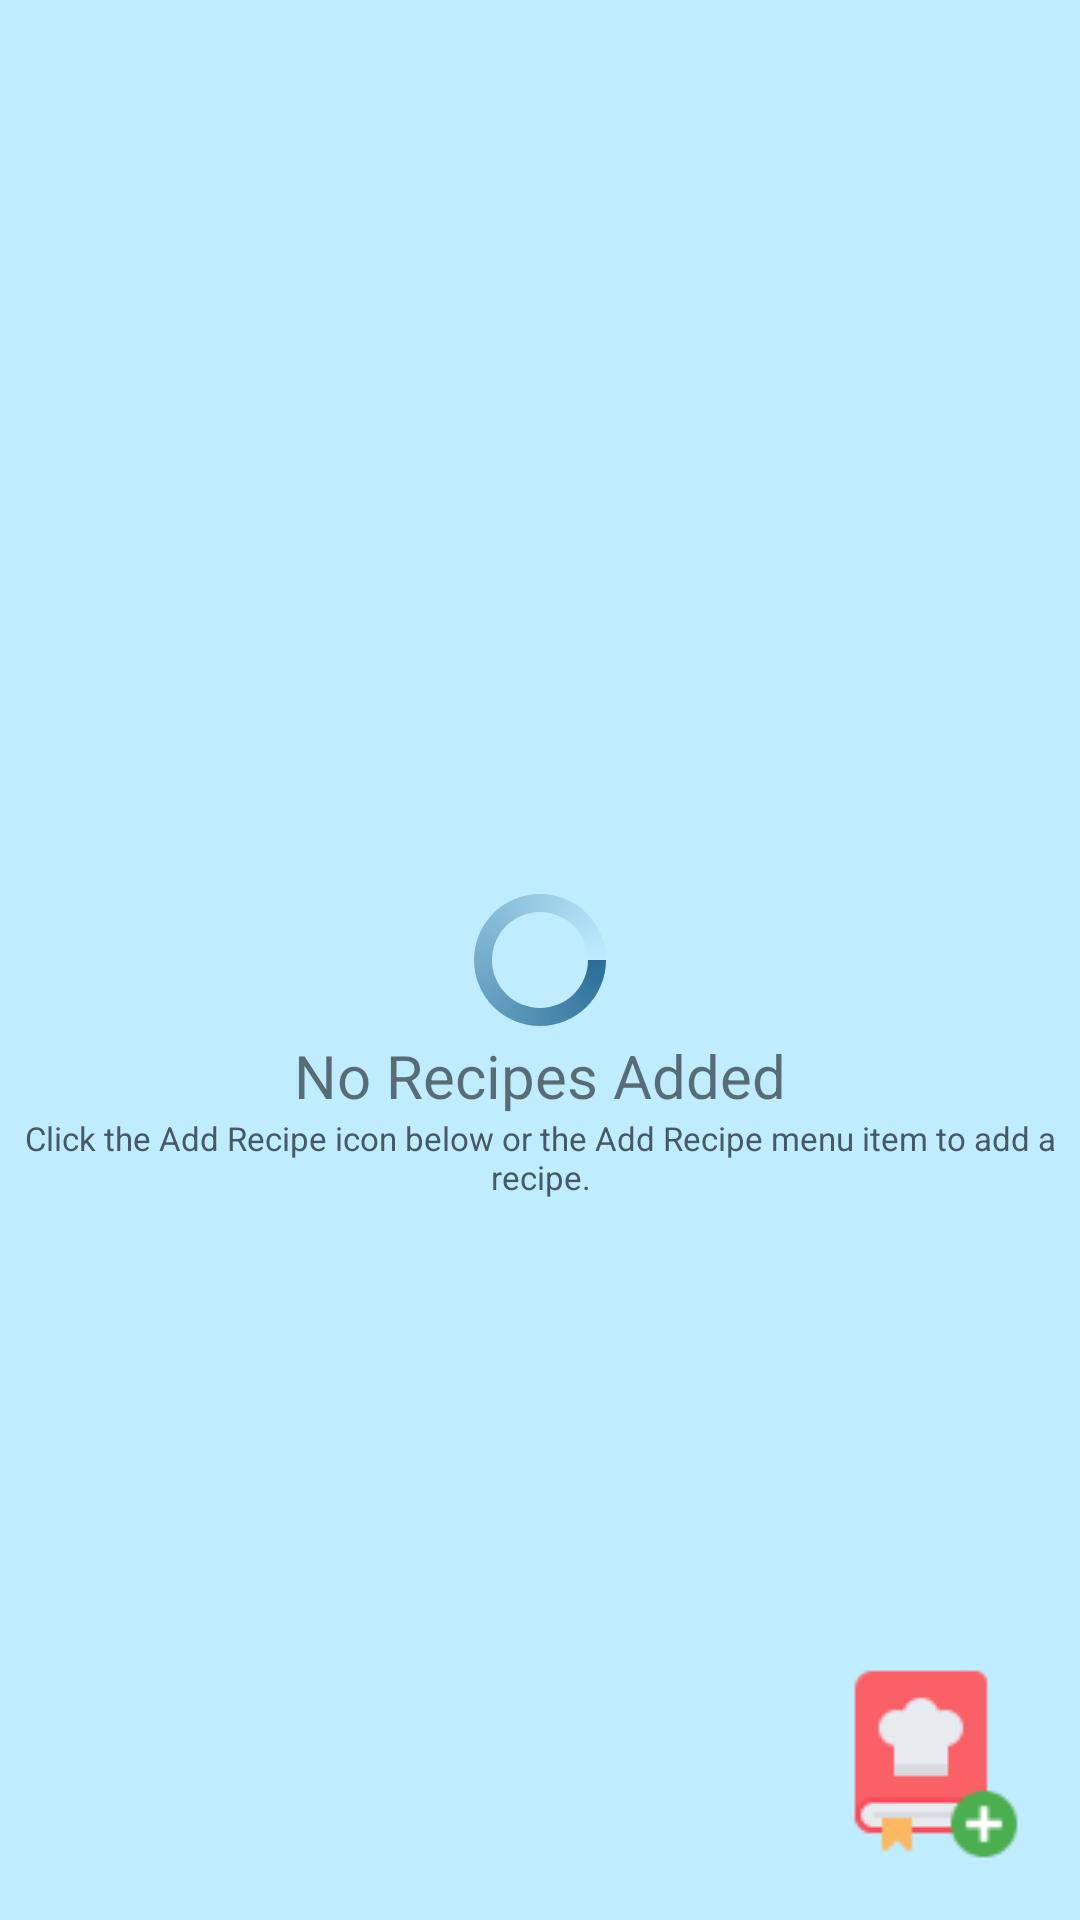

Named icons in this screenshot (1080px×1920px) and their bounding boxes, [x1=x1, y1=y1, x2=x2, y2=y2]:
Add Recipe Button: [x1=854, y1=1670, x2=1018, y2=1858]
